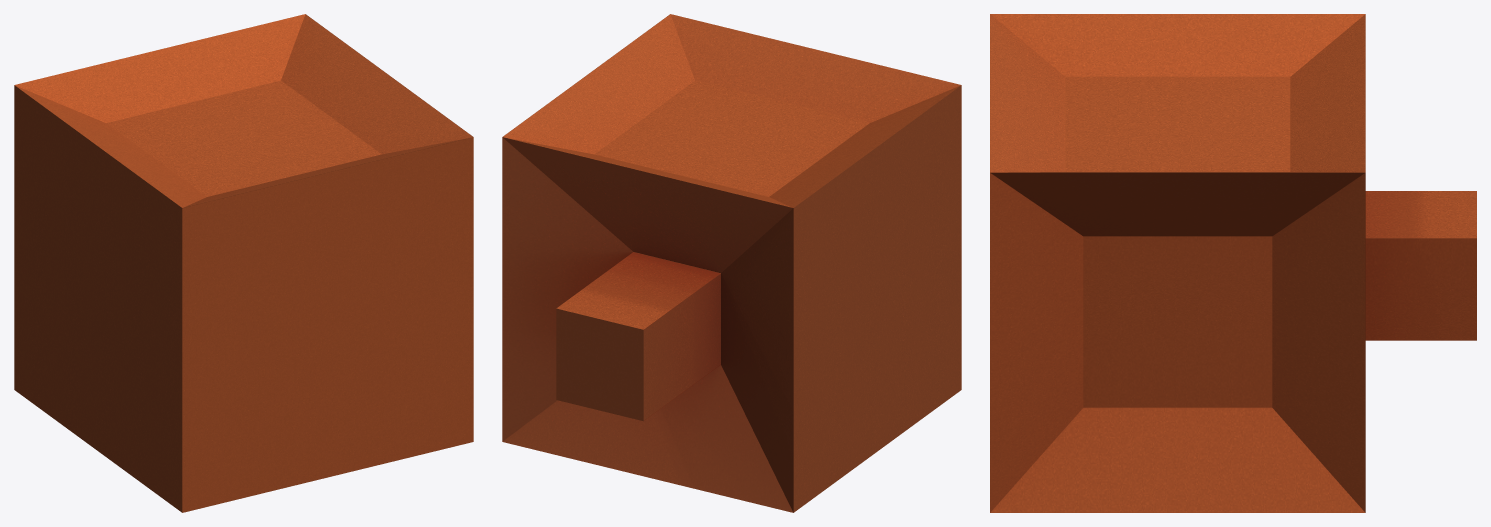
Rendered from Testcube.obj.
The picture shows the model from 3 angles, left to right: view 1: azimuth 30°, elevation 25°; view 2: azimuth 150°, elevation 25°; view 3: azimuth 270°, elevation 25°; orthographic projection. The views are drawn at different scales.
Parts seen in each view (by area): view 1: Cube; view 2: Cube; view 3: Cube.
Part boxes in pixels (box(x1,y1,x2,y2)): Cube: box(14, 14, 473, 512); Cube: box(502, 14, 961, 512); Cube: box(990, 14, 1476, 512).
Bounding box in the file's own units: 2 × 2 × 2.59.
1 material, 1 textured.
